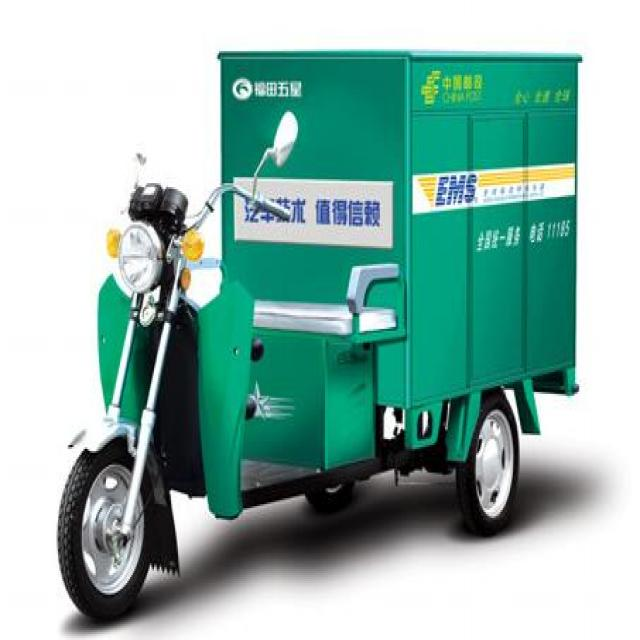tricycle: (55, 47, 582, 618)
